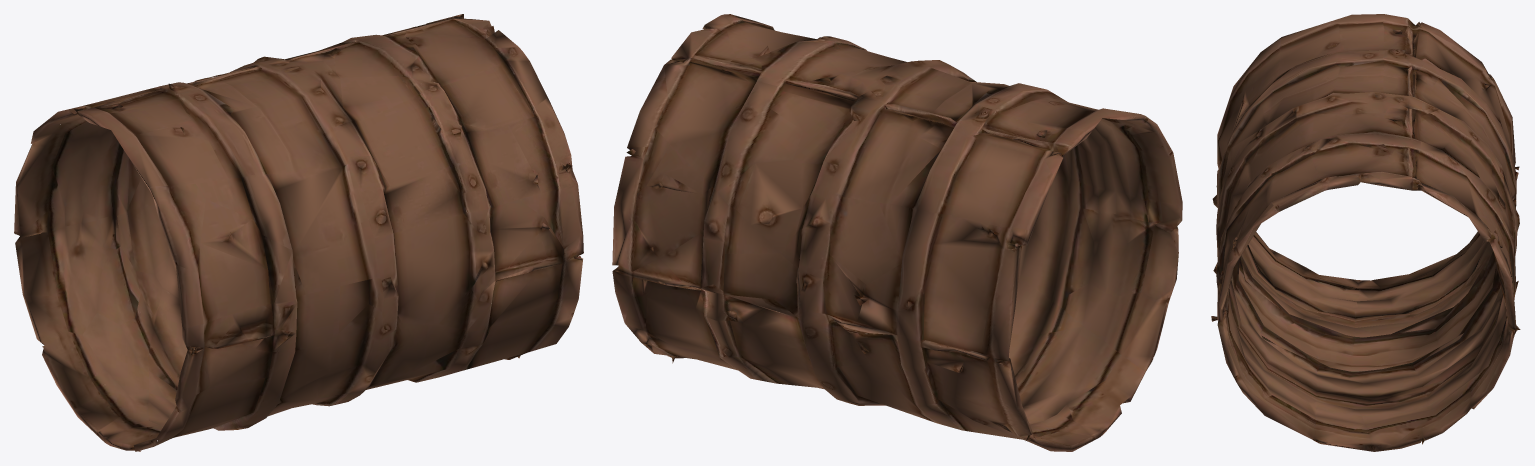
The model's file is tunnelA.glb.
3 views of the same model, side by side, from view 1: azimuth 30°, elevation 25°; view 2: azimuth 150°, elevation 25°; view 3: azimuth 270°, elevation 25° (orthographic). The views are drawn at different scales.
Visible parts, largest first — view 1: tripo_node_86d597d3-407d-4584-8b17-c12faa20b52f; view 2: tripo_node_86d597d3-407d-4584-8b17-c12faa20b52f; view 3: tripo_node_86d597d3-407d-4584-8b17-c12faa20b52f.
Boxes of the visible parts, box(x1,y1,x2,y2) form: tripo_node_86d597d3-407d-4584-8b17-c12faa20b52f: box(14, 14, 583, 451); tripo_node_86d597d3-407d-4584-8b17-c12faa20b52f: box(612, 14, 1182, 451); tripo_node_86d597d3-407d-4584-8b17-c12faa20b52f: box(1211, 14, 1520, 451).
Size of the model in its own units: 0.9761 by 0.7542 by 0.7597.
Materials: 1 (1 with a texture image).
